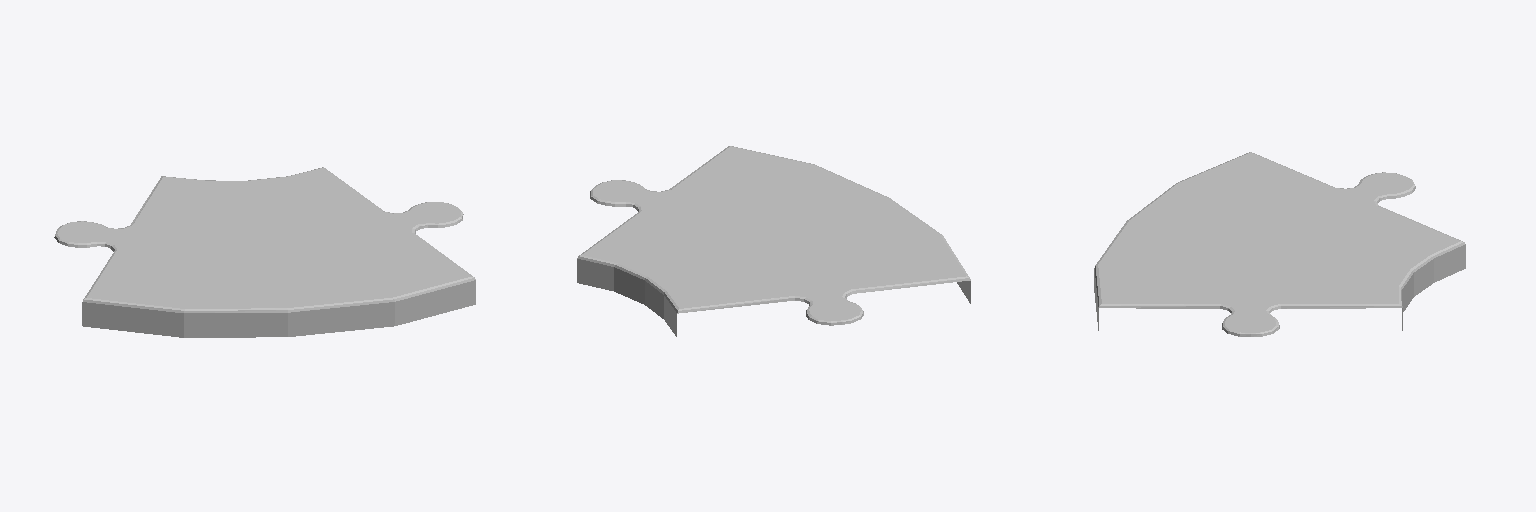
The model's file is Bottom Turn RTL Knobs.obj.
The picture shows the model from 3 angles: view 1: azimuth 30°, elevation 25°; view 2: azimuth 150°, elevation 25°; view 3: azimuth 270°, elevation 25°; orthographic projection.
Parts seen in each view (by area): view 1: PuzzleBottomTurnRTLKnobs; view 2: PuzzleBottomTurnRTLKnobs; view 3: PuzzleBottomTurnRTLKnobs.
Boxes of the visible parts, <box> form: PuzzleBottomTurnRTLKnobs: <box>54,167,475,337</box>; PuzzleBottomTurnRTLKnobs: <box>577,146,970,336</box>; PuzzleBottomTurnRTLKnobs: <box>1094,152,1465,336</box>.
Size of the model in its own units: 845 by 59.05 by 721.